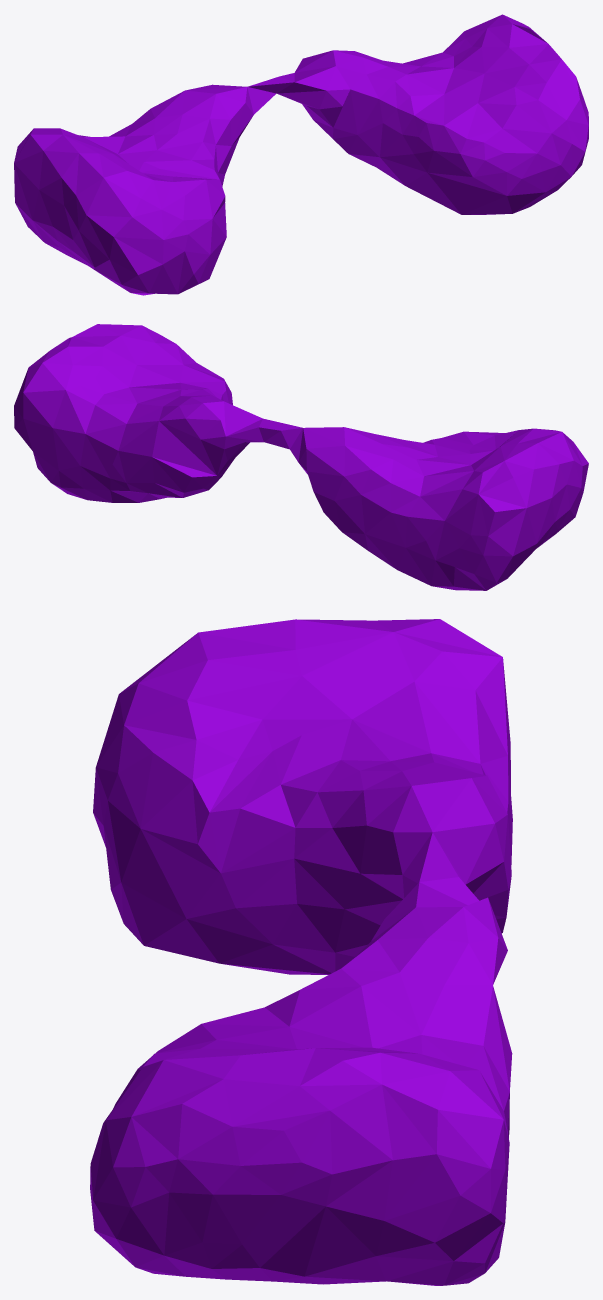
Rendered from 182-24d-area 24d of cortex-('0.6902', '0.0000', '1.0000').obj.
The picture shows the model from 3 angles, top to bottom: view 1: azimuth 30°, elevation 25°; view 2: azimuth 150°, elevation 25°; view 3: azimuth 270°, elevation 25°; orthographic projection. The views are drawn at different scales.
Bounding box in the file's own units: 84.65 × 21.7 × 30.56.
